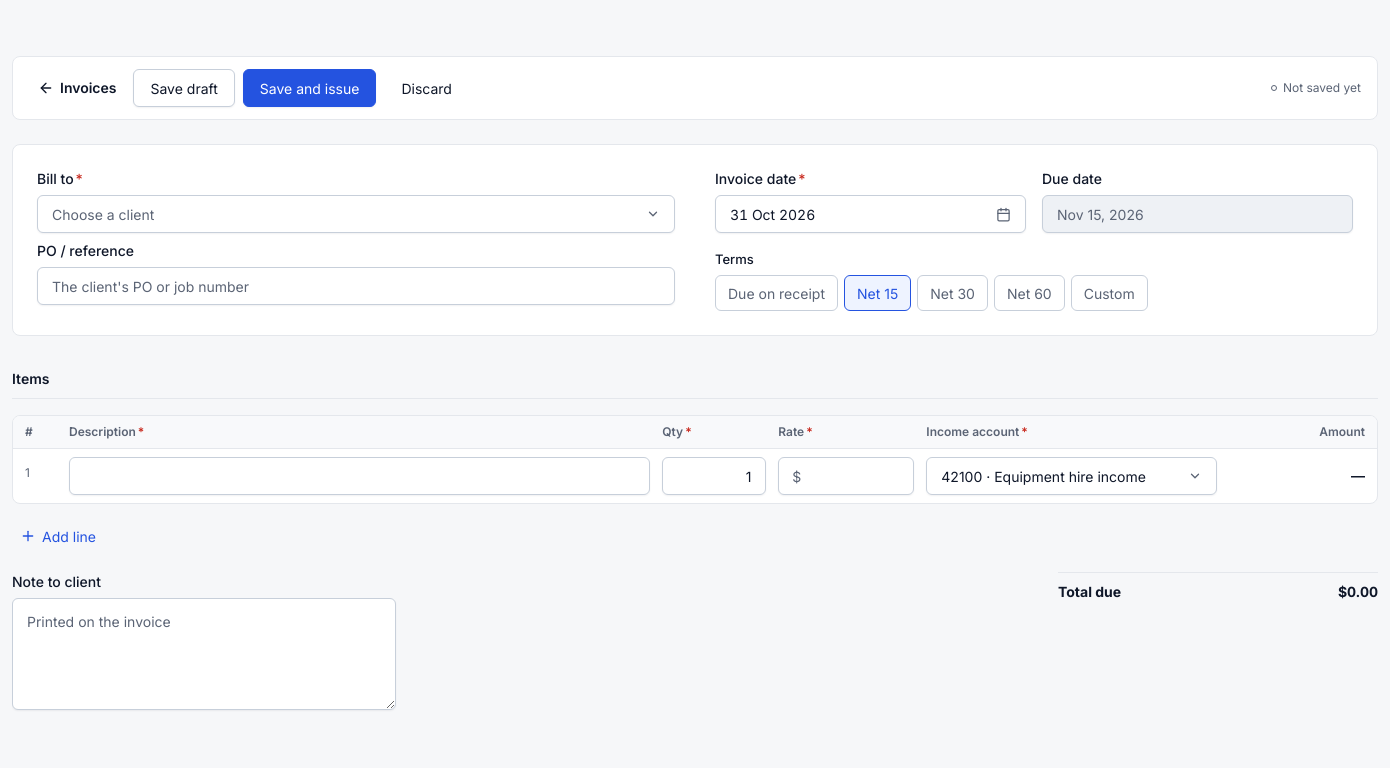
Scenario: ManualInvoiceForm (ADR-048) › adds a line on Enter in the last line and never submits from a line
Type "10" into the field named "Line 1 rate". click: coordinates (846, 476)
box: left=778, top=457, right=914, bottom=495
Then press Enter
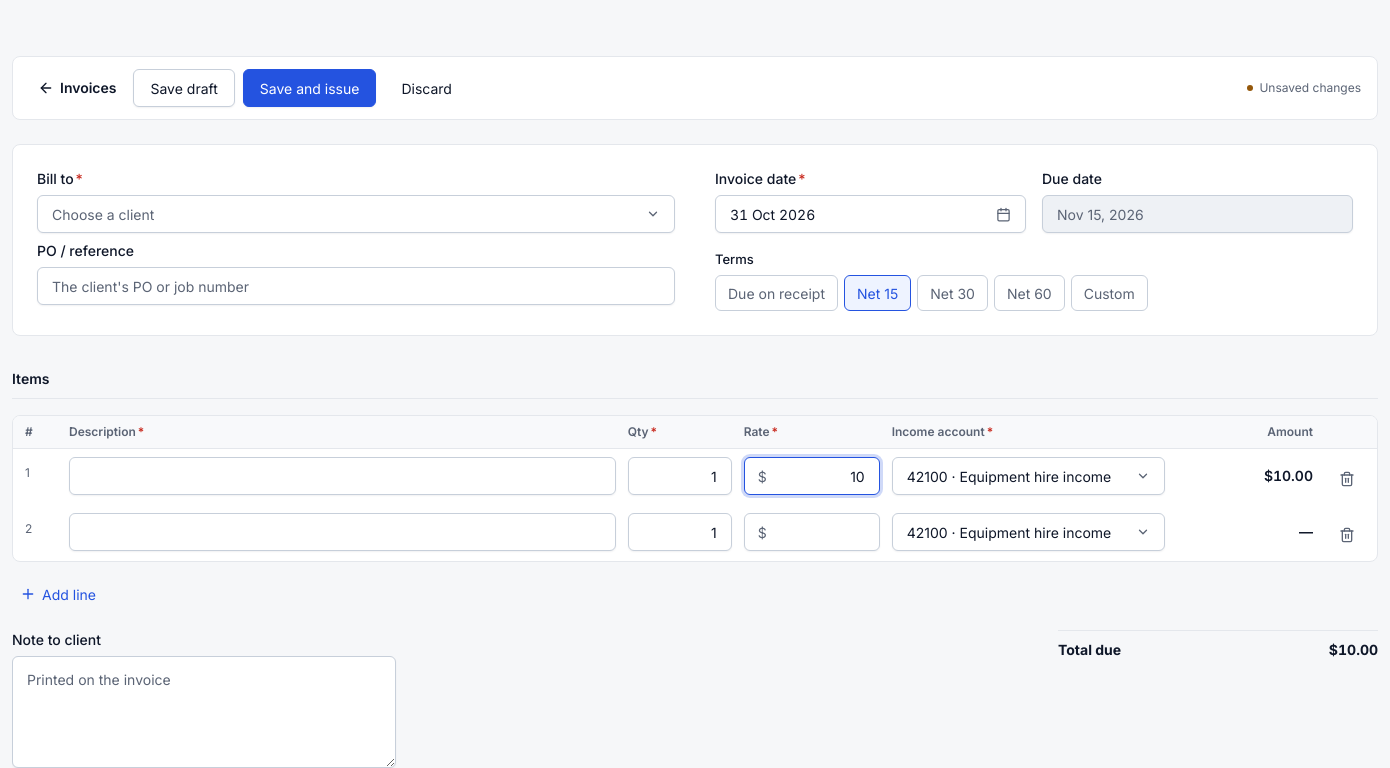
Now the field named "Line 2 description" is shown, box left=69, top=513, right=616, bottom=551
